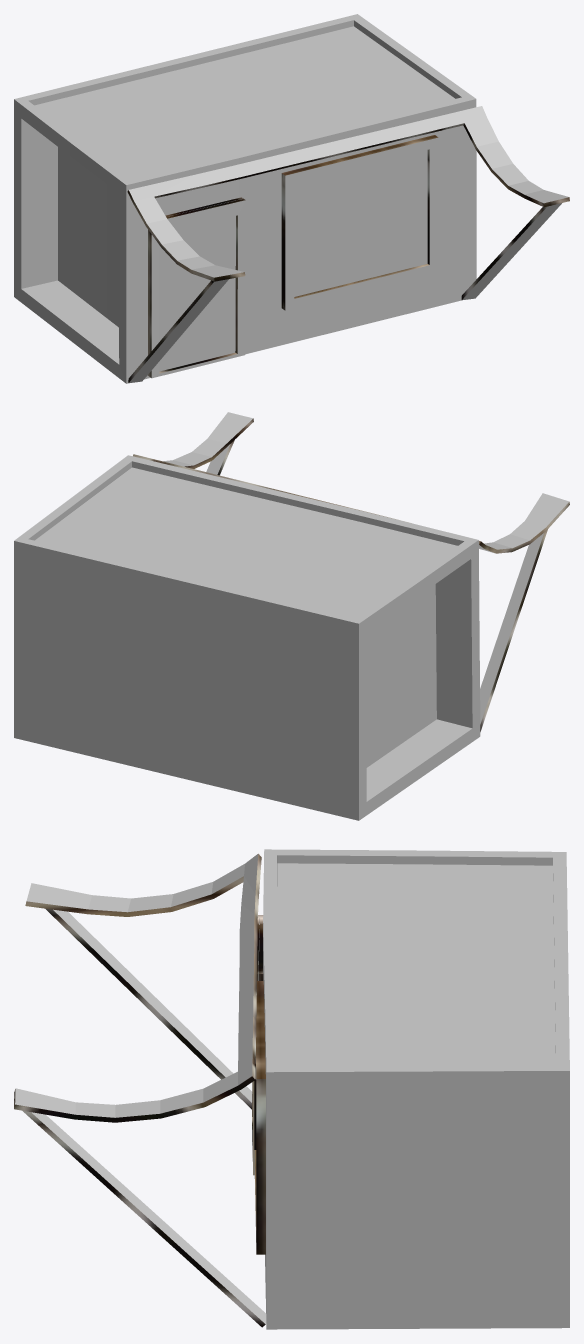
File: Shop2.fbx
3 renders of one model, top to bottom at view 1: azimuth 30°, elevation 25°; view 2: azimuth 150°, elevation 25°; view 3: azimuth 270°, elevation 25°, orthographic. The views are drawn at different scales.
Visible parts, largest first — view 1: Shop1; view 2: Shop1; view 3: Shop1.
Boxes of the visible parts, left/top/right/bottom form: Shop1: left=14, top=14, right=569, bottom=383; Shop1: left=14, top=412, right=569, bottom=820; Shop1: left=14, top=849, right=569, bottom=1329.
Size of the model in its own units: 1605 by 860 by 1684.
